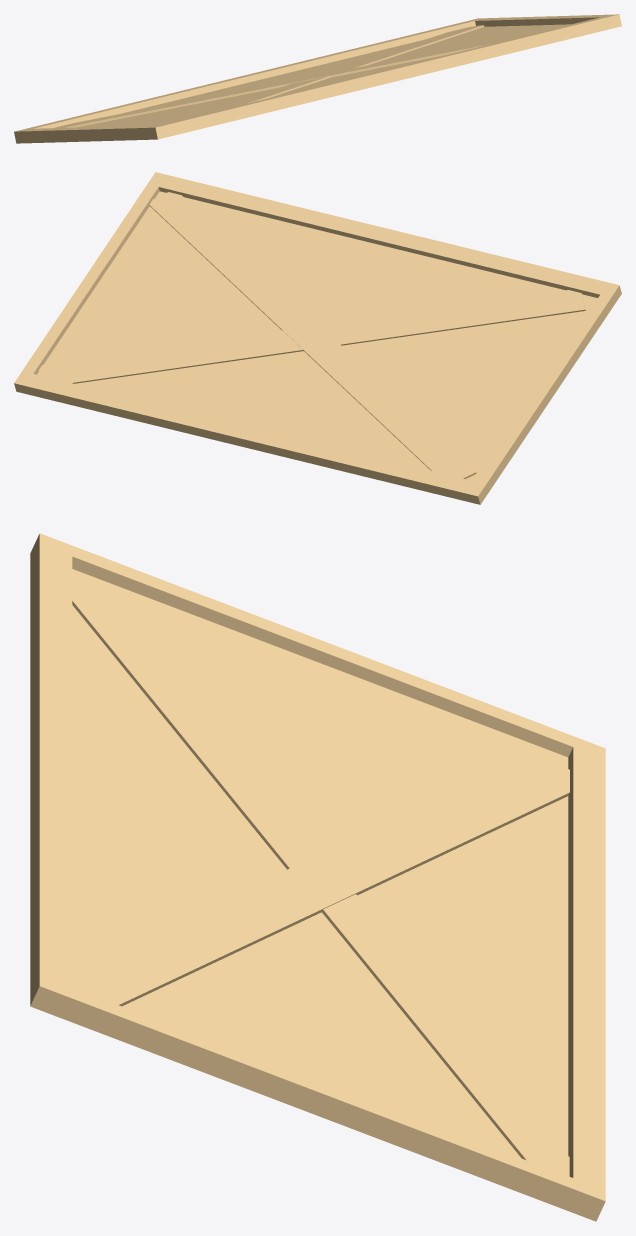
Rendered from BlueDoor.fbx.
3 views of the same model, one above another, from view 1: azimuth 30°, elevation 25°; view 2: azimuth 150°, elevation 25°; view 3: azimuth 270°, elevation 25° (orthographic). The views are drawn at different scales.
Visible parts, largest first — view 1: door; view 2: door; view 3: door.
Part boxes in pixels (box(x1,y1,x2,y2)): door: box(14, 14, 621, 143); door: box(14, 172, 621, 504); door: box(30, 533, 605, 1221).
Size of the model in its own units: 91.42 by 22.18 by 49.09.
